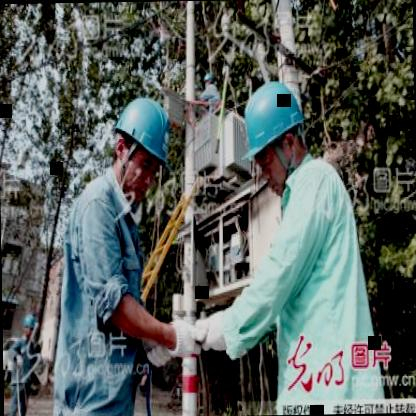helmet: (236, 70, 312, 192), (108, 88, 174, 197), (19, 314, 39, 343)
